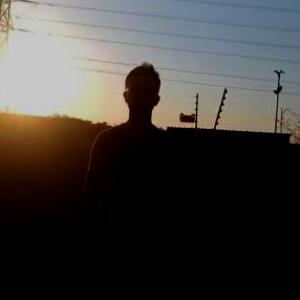follow: (74, 58, 180, 299)
